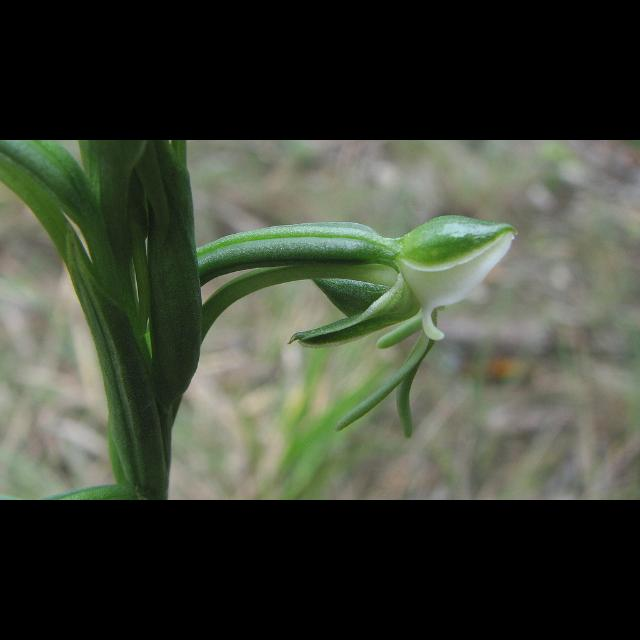Flower: (194, 206, 488, 406)
